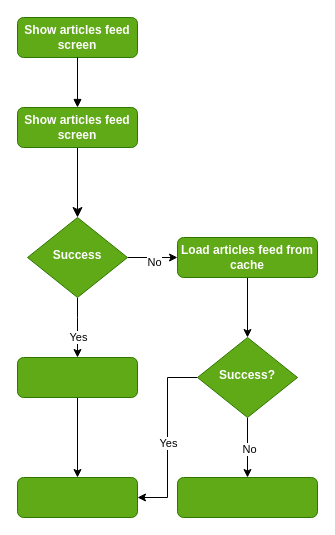
This 335x535 diagram has some shape labels left out. The centre of each missing label's shape, as x and y in pixels:
Cache article feed: (77,377)
Display article feed: (77,497)
Display error: (247,497)
